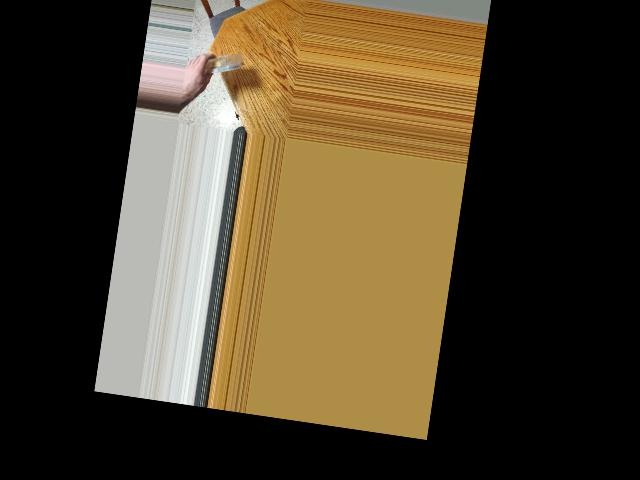cheese: (203, 46, 239, 78)
